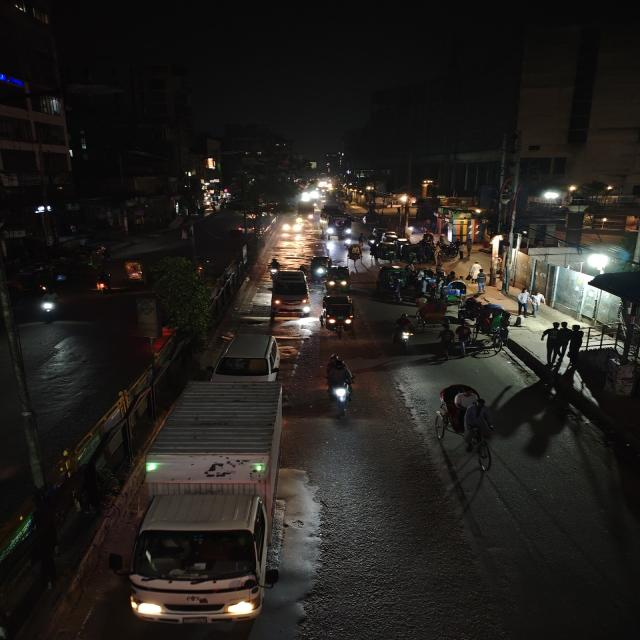bus: (319, 206, 353, 240)
car: (270, 268, 312, 318)
cng: (319, 293, 359, 337), (120, 252, 152, 286), (76, 244, 108, 268), (326, 265, 351, 291), (309, 255, 332, 279)
motorcycle: (319, 354, 360, 422), (390, 312, 417, 352), (34, 287, 60, 325), (93, 269, 113, 295)
pedestrian: (540, 323, 568, 356), (436, 319, 456, 351), (454, 322, 474, 352), (472, 268, 490, 296), (389, 277, 408, 303), (515, 288, 530, 316), (528, 290, 543, 316), (499, 269, 512, 297), (493, 268, 508, 292), (178, 223, 194, 241), (491, 267, 503, 287)
rickshaw: (429, 380, 502, 474), (414, 294, 450, 328), (444, 278, 469, 304)
truck: (134, 376, 292, 629)
